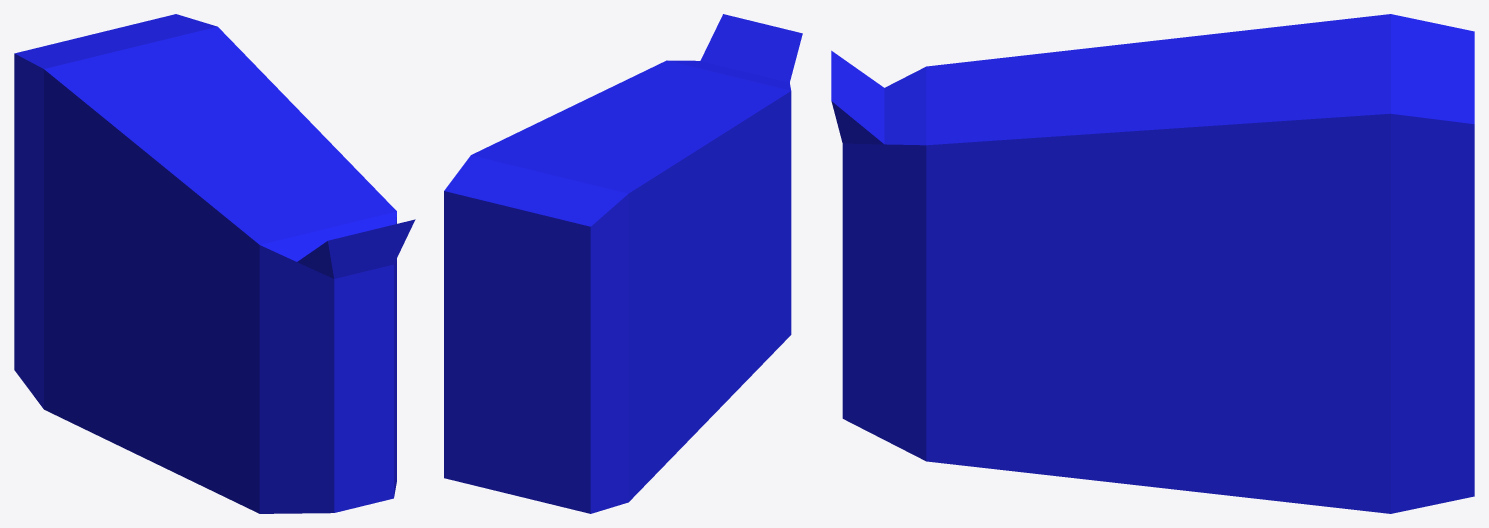
File: PowderedWhiteSugarBag.obj
3 views of the same model, side by side, from view 1: azimuth 30°, elevation 25°; view 2: azimuth 150°, elevation 25°; view 3: azimuth 270°, elevation 25° (orthographic). The views are drawn at different scales.
Visible parts, largest first — view 1: bag.000_bag.001; view 2: bag.000_bag.001; view 3: bag.000_bag.001.
Boxes of the visible parts, box(x1,y1,x2,y2) form: bag.000_bag.001: box(14, 14, 415, 513); bag.000_bag.001: box(444, 14, 802, 513); bag.000_bag.001: box(831, 14, 1474, 513).
Bounding box in the file's own units: 0.1101 × 0.2059 × 0.2999.
